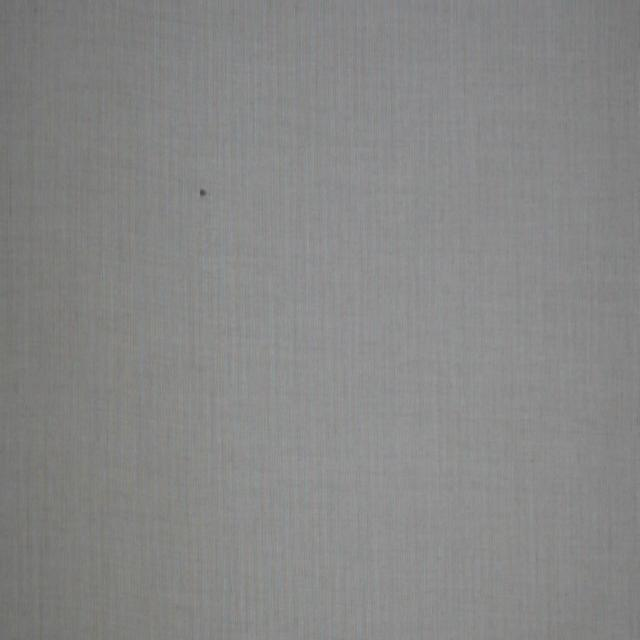dirty: (200, 188, 206, 198)
